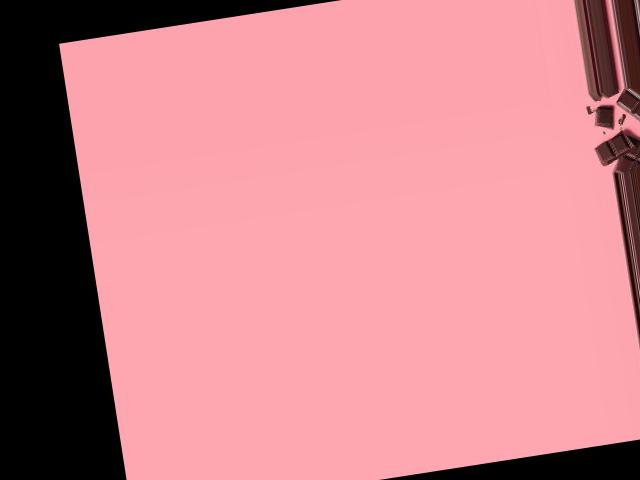chocolate: (591, 79, 640, 170)
